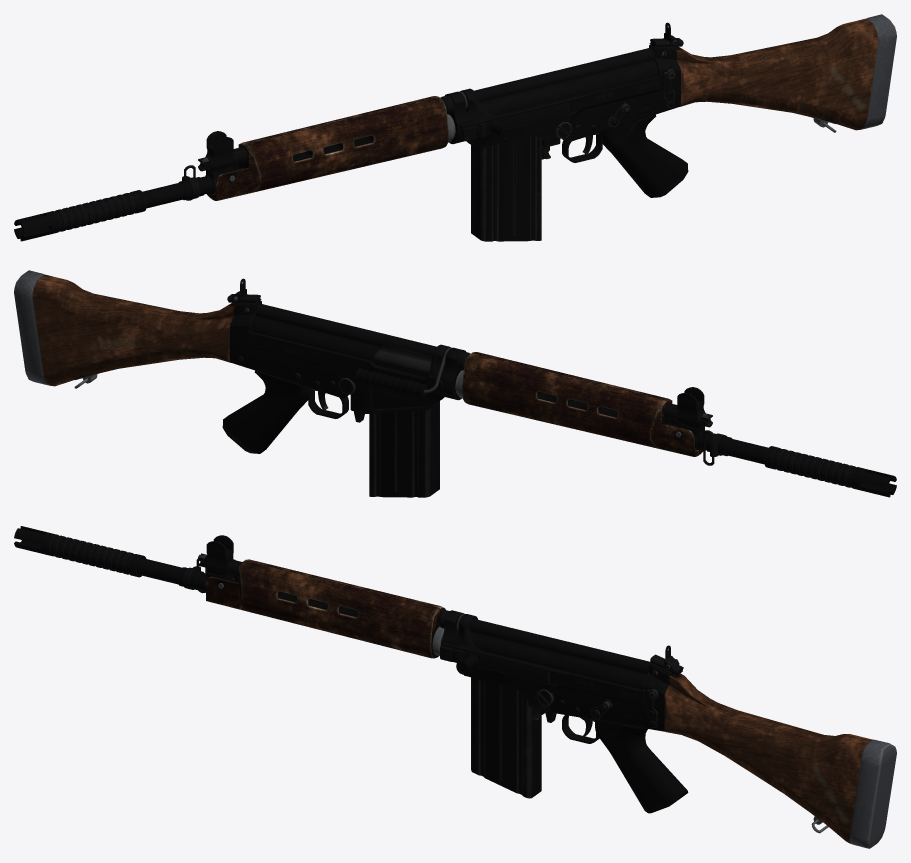
File: FAL.glb
3 views of the same model, one above another, from view 1: azimuth 30°, elevation 25°; view 2: azimuth 150°, elevation 25°; view 3: azimuth 330°, elevation 25° (orthographic).
Parts seen in each view (by area): view 1: Cube.000, Cube.005, Cube.003, Cube.001, Cylinder; view 2: Cube.000, Cube.005, Cube.003, Cube.001, Cylinder; view 3: Cube.000, Cube.005, Cube.003, Cube.001, Cylinder.
Boxes of the visible parts, bbox=[...] form: Cube.000: bbox=[142, 22, 688, 208]; Cube.005: bbox=[676, 14, 896, 132]; Cube.003: bbox=[207, 96, 455, 200]; Cube.001: bbox=[471, 136, 541, 241]; Cylinder: bbox=[14, 190, 146, 241]; Cube.000: bbox=[222, 278, 768, 465]; Cube.005: bbox=[14, 270, 234, 388]; Cube.003: bbox=[455, 352, 703, 456]; Cube.001: bbox=[369, 365, 439, 497]; Cylinder: bbox=[764, 446, 896, 497]; Cube.000: bbox=[137, 535, 688, 813]; Cube.005: bbox=[664, 673, 896, 848]; Cube.003: bbox=[206, 559, 445, 658]; Cube.001: bbox=[471, 677, 541, 798]; Cylinder: bbox=[14, 526, 146, 577].
Size of the model in its own units: 2.09 by 0.4158 by 0.1676.
Materials: 5 (5 with a texture image).
